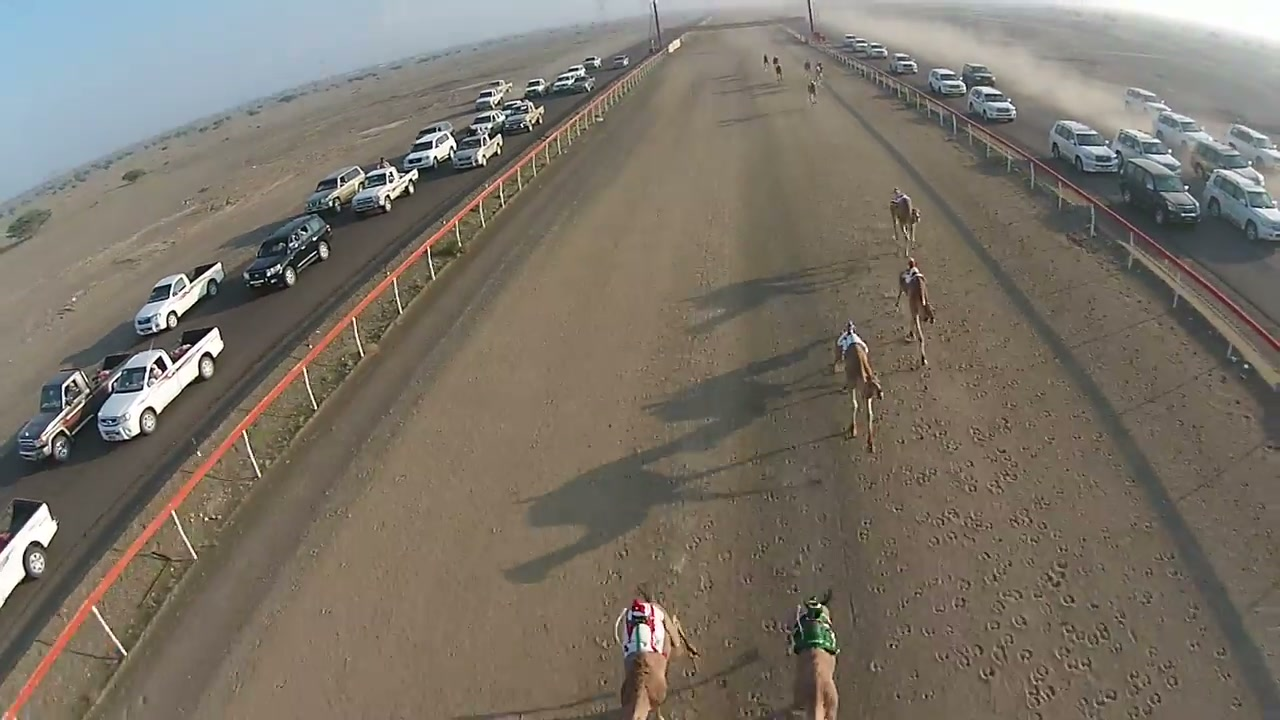animal_footprint: (859, 371, 1230, 708)
